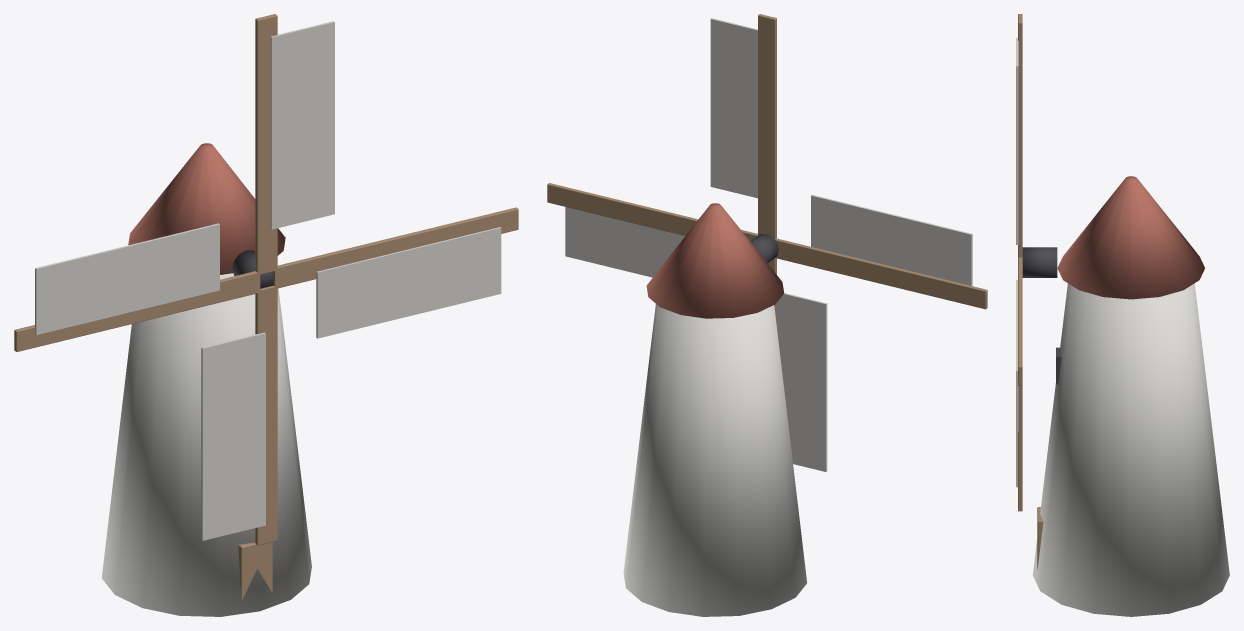
Rendered from windmill.glb.
The picture shows the model from 3 angles, left to right: view 1: azimuth 30°, elevation 25°; view 2: azimuth 150°, elevation 25°; view 3: azimuth 270°, elevation 25°; orthographic projection. The views are drawn at different scales.
Parts seen in each view (by area): view 1: Blades, body, cap, door; view 2: body, Blades, cap; view 3: body, cap, Blades.
Boxes of the visible parts, left/top/right/bottom form: Blades: left=14, top=14, right=518, bottom=545; body: left=101, top=273, right=311, bottom=616; cap: left=128, top=143, right=285, bottom=274; door: left=238, top=542, right=272, bottom=599; body: left=623, top=304, right=806, bottom=616; Blades: left=547, top=14, right=987, bottom=471; cap: left=646, top=203, right=784, bottom=318; body: left=1032, top=283, right=1229, bottom=616; cap: left=1057, top=176, right=1204, bottom=299; Blades: left=1016, top=14, right=1057, bottom=511.
Bounding box in the file's own units: 17.5 × 19.95 × 6.94.
